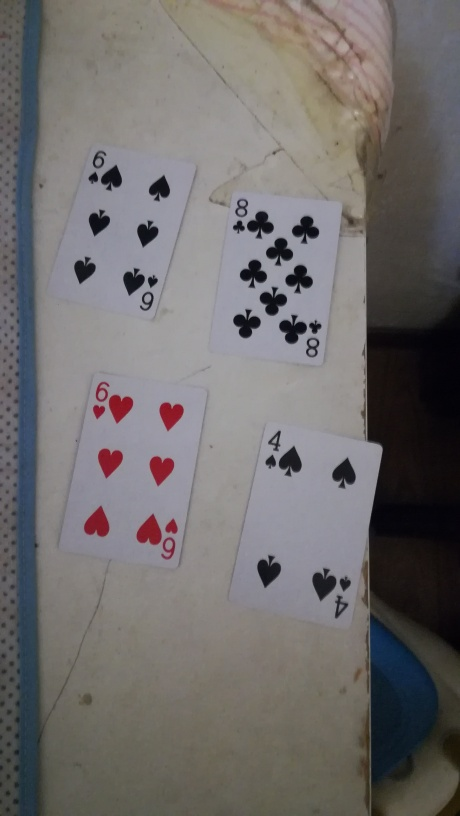ht 4: (228, 418, 385, 630)
ht 6: (49, 133, 201, 340)
hx 6: (61, 367, 208, 575)
mh 8: (219, 192, 356, 383)
